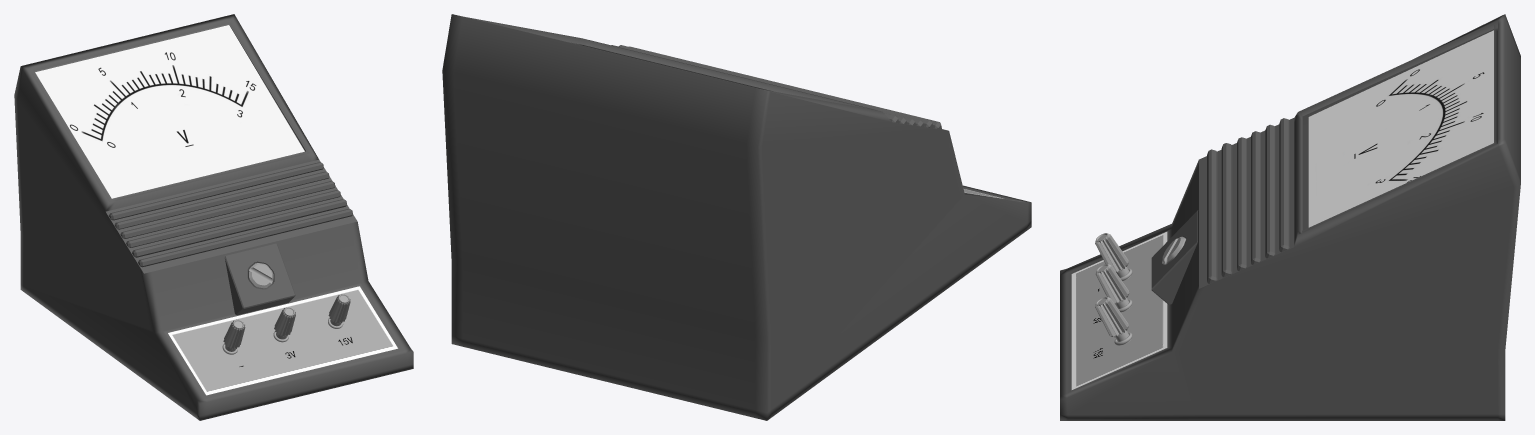
Rendered from dianyabiao2.fbx.
3 renders of one model, left to right at view 1: azimuth 30°, elevation 25°; view 2: azimuth 150°, elevation 25°; view 3: azimuth 270°, elevation 25°, orthographic. The views are drawn at different scales.
Parts seen in each view (by area): view 1: pCube22, pCube21, pCylinder22, pCylinder20, pCylinder26, pCylinder24; view 2: pCube22; view 3: pCube22, pCube21, pCylinder20, pCylinder26, pCylinder24.
Part boxes in pixels (bbox=[...]): pCube22: bbox=[14, 14, 413, 420]; pCube21: bbox=[35, 25, 304, 198]; pCylinder22: bbox=[248, 263, 273, 289]; pCylinder20: bbox=[328, 294, 350, 323]; pCylinder26: bbox=[274, 307, 295, 336]; pCylinder24: bbox=[223, 319, 245, 349]; pCube22: bbox=[442, 14, 1031, 420]; pCube22: bbox=[1060, 14, 1520, 420]; pCube21: bbox=[1308, 30, 1493, 227]; pCylinder20: bbox=[1095, 297, 1128, 337]; pCylinder26: bbox=[1095, 264, 1129, 304]; pCylinder24: bbox=[1095, 233, 1128, 272].
Bounding box in the file's own units: 1.51 × 1.51 × 2.26.
Materials: 7 (2 with a texture image).
